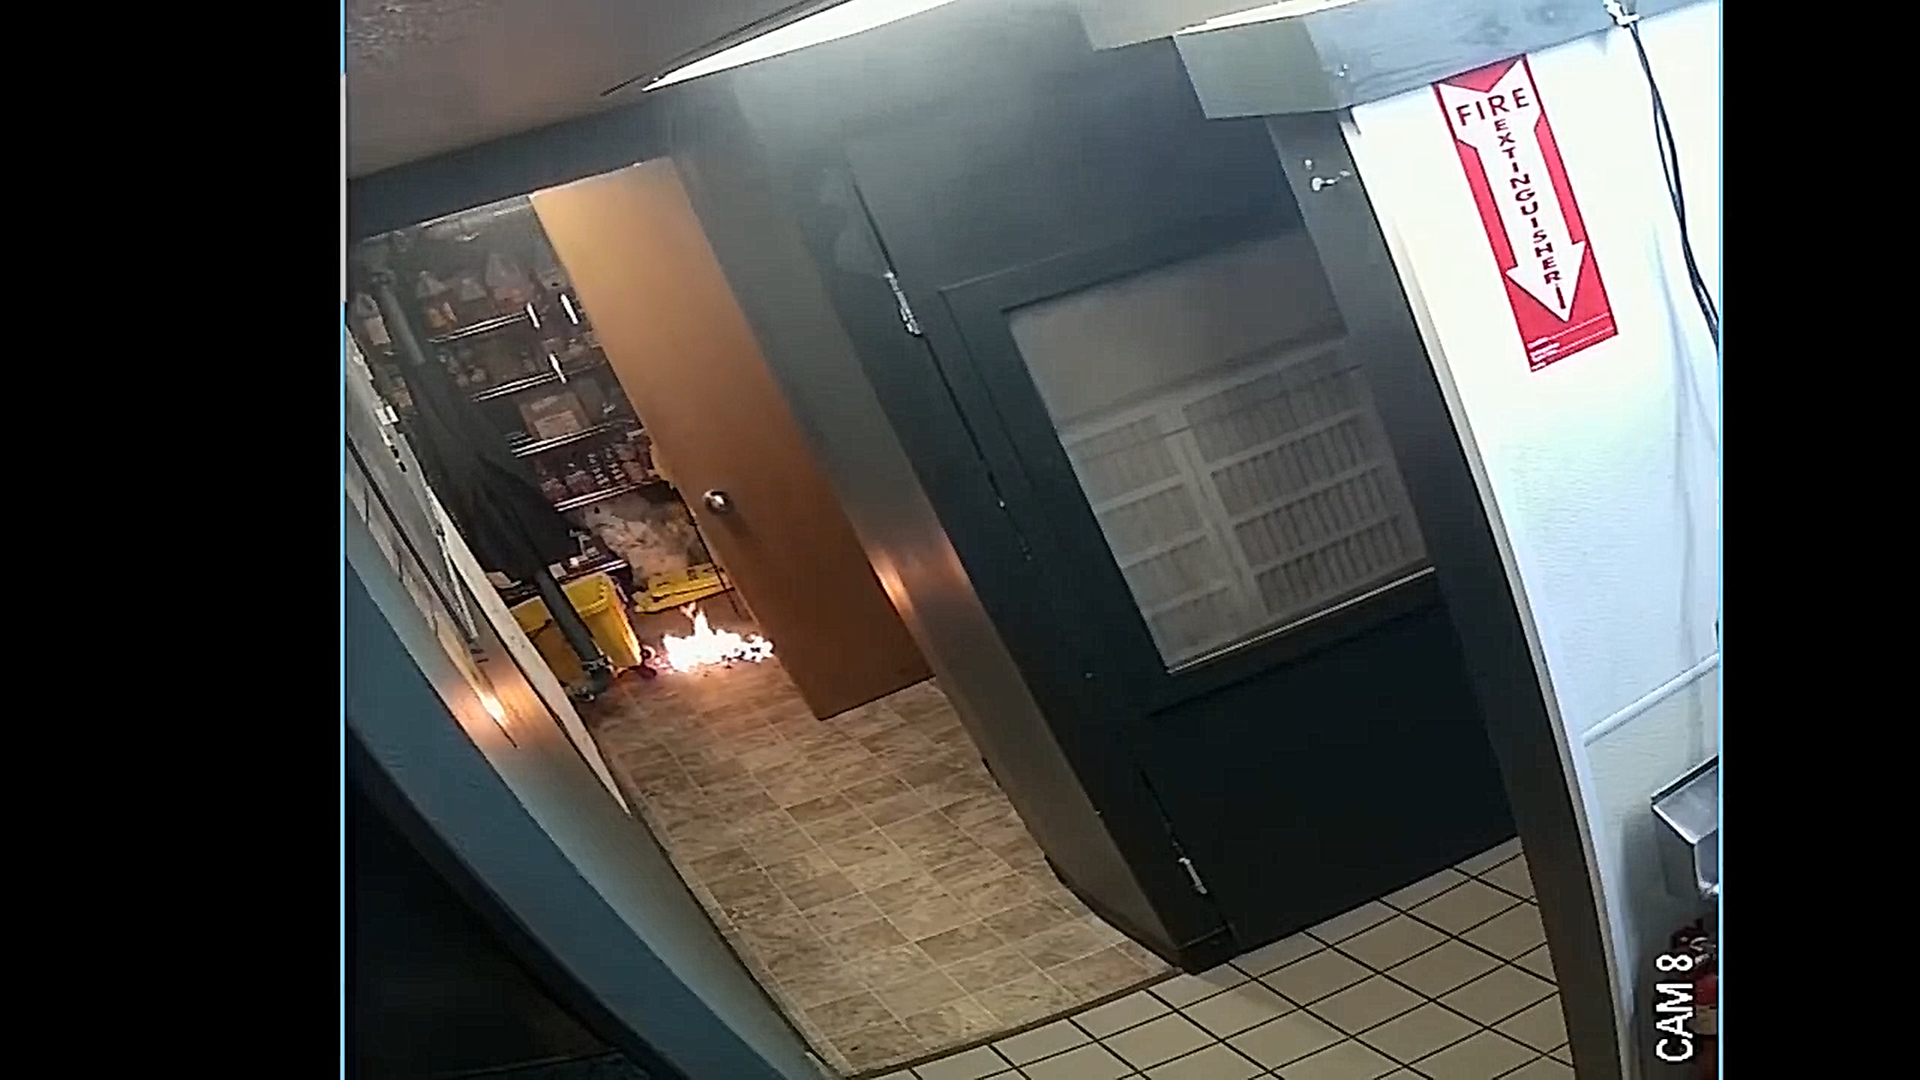fire: (641, 599, 793, 674)
